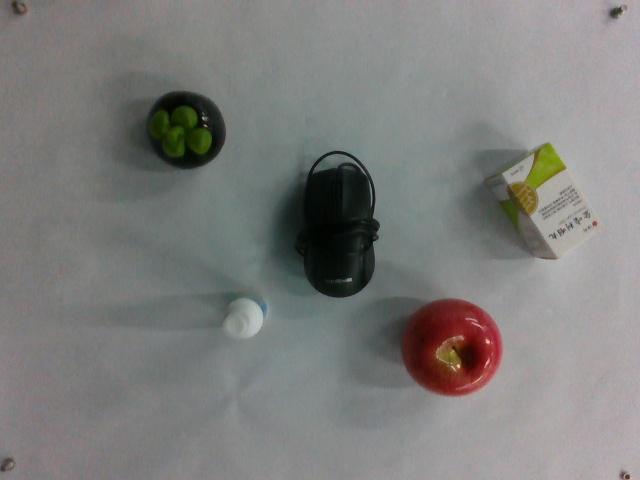apple: (400, 299, 504, 396)
carton: (489, 141, 601, 263)
detergent: (220, 291, 271, 340)
mangosteen: (148, 89, 227, 167)
mouse: (296, 148, 380, 299)
